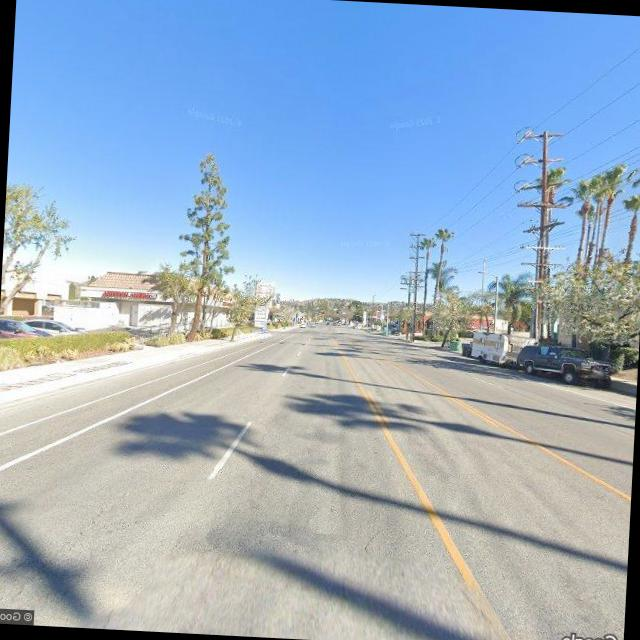pothole: (363, 526, 386, 554)
